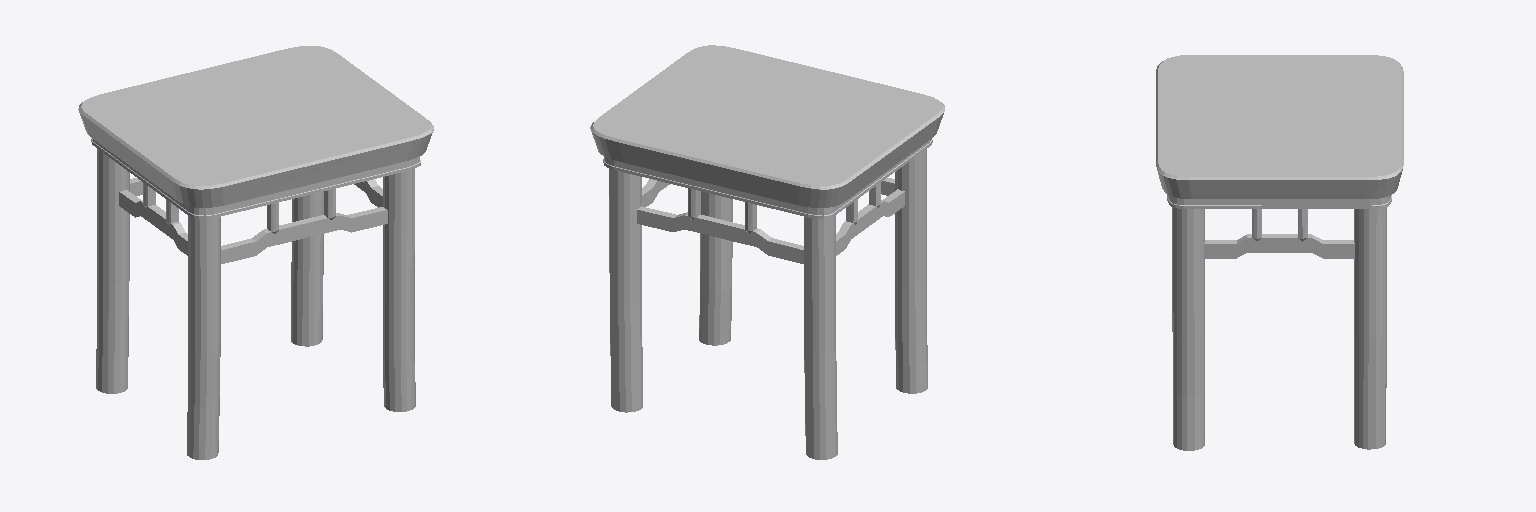
The model's file is chinese_stool_4k.obj.
3 views of the same model, side by side, from view 1: azimuth 30°, elevation 25°; view 2: azimuth 150°, elevation 25°; view 3: azimuth 270°, elevation 25° (orthographic).
Parts seen in each view (by area): view 1: chinese_stool; view 2: chinese_stool; view 3: chinese_stool.
Part boxes in pixels (bbox=[...]): chinese_stool: bbox=[78, 46, 433, 459]; chinese_stool: bbox=[590, 45, 944, 459]; chinese_stool: bbox=[1156, 55, 1403, 450].
Bounding box in the file's own units: 0.599 × 0.6306 × 0.5064.